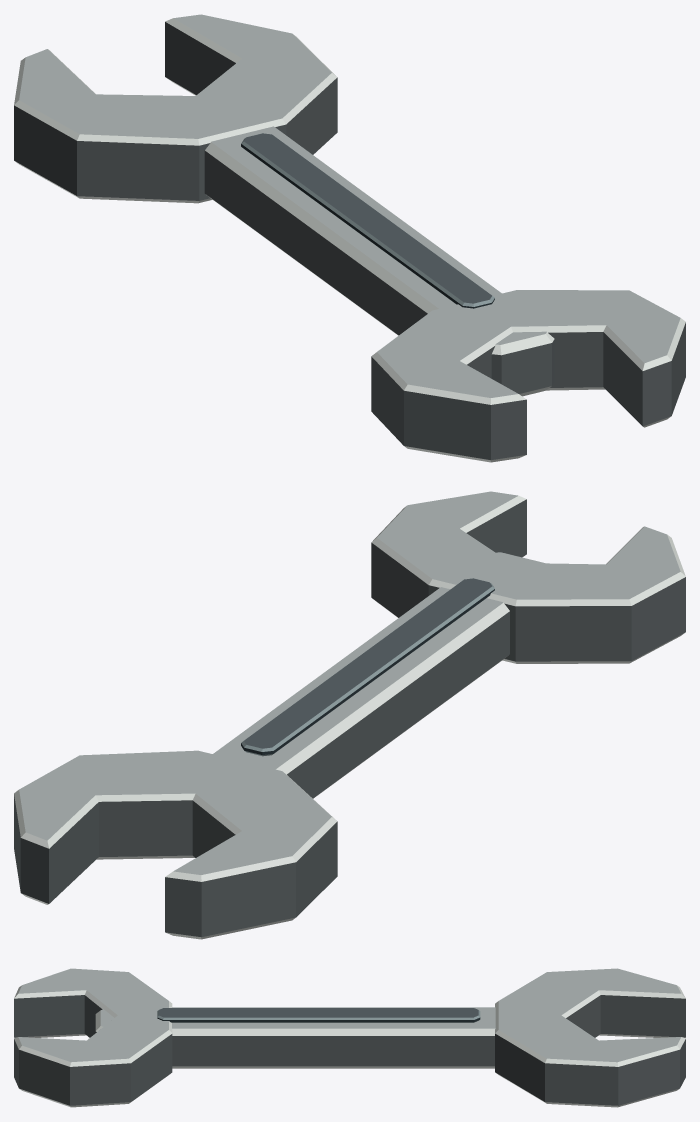
Rendered from wrench.fbx.
3 views of the same model, one above another, from view 1: azimuth 30°, elevation 25°; view 2: azimuth 150°, elevation 25°; view 3: azimuth 270°, elevation 25° (orthographic). The views are drawn at different scales.
Parts seen in each view (by area): view 1: wrench; view 2: wrench; view 3: wrench.
Part boxes in pixels (box(x1,y1,x2,y2)): wrench: box(14, 14, 685, 462); wrench: box(14, 491, 685, 939); wrench: box(14, 968, 685, 1107).
Size of the model in its own units: 0.78 by 0.19 by 2.29.
1 material, 1 textured.
